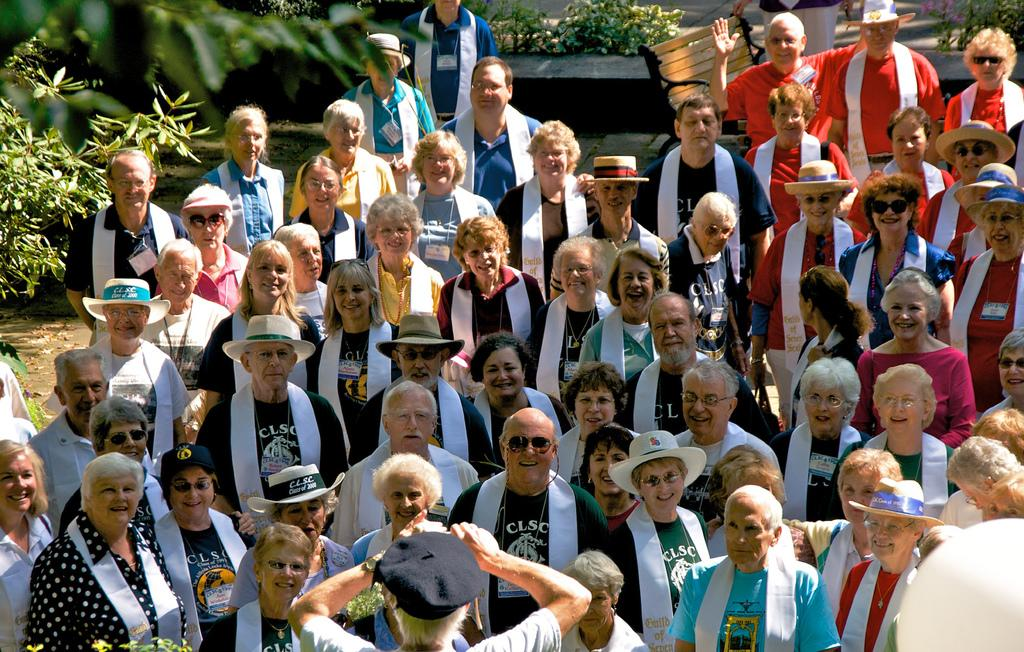Hat: (612, 432, 706, 497), (212, 317, 304, 373), (374, 312, 462, 370), (245, 462, 345, 513), (844, 482, 938, 532), (82, 276, 166, 324), (934, 118, 1010, 171), (952, 159, 1020, 218), (783, 160, 850, 200), (162, 438, 216, 487), (967, 184, 1023, 227), (583, 154, 647, 186), (349, 34, 408, 68), (846, 2, 910, 30)
